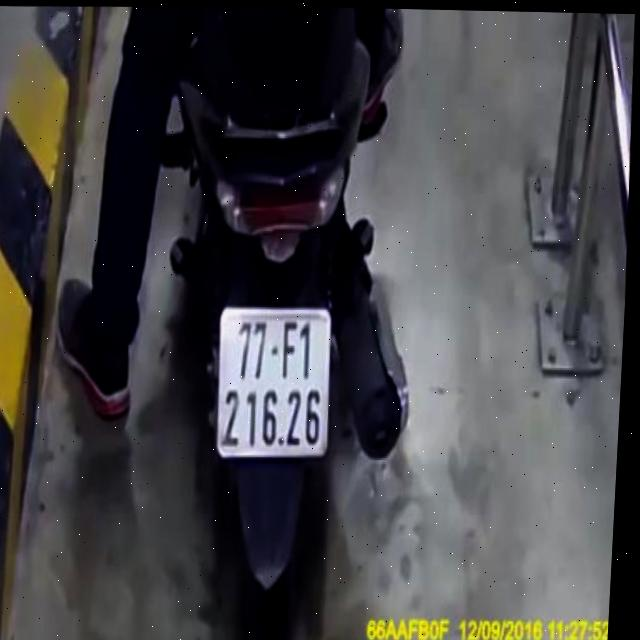motorcycle: (115, 4, 446, 640)
plate: (207, 300, 347, 466)
